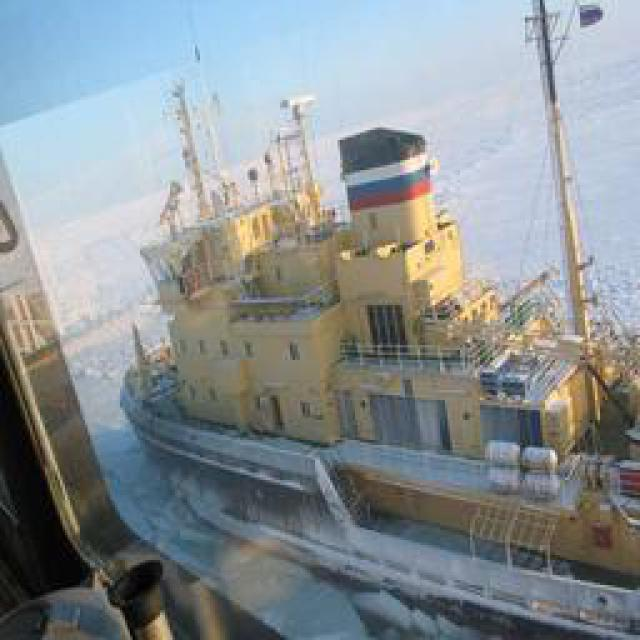Ship: (98, 63, 640, 589)
